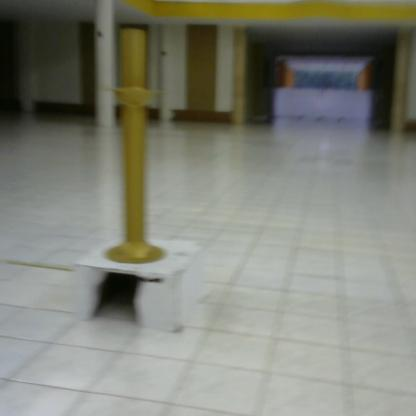pole: (102, 20, 175, 273)
